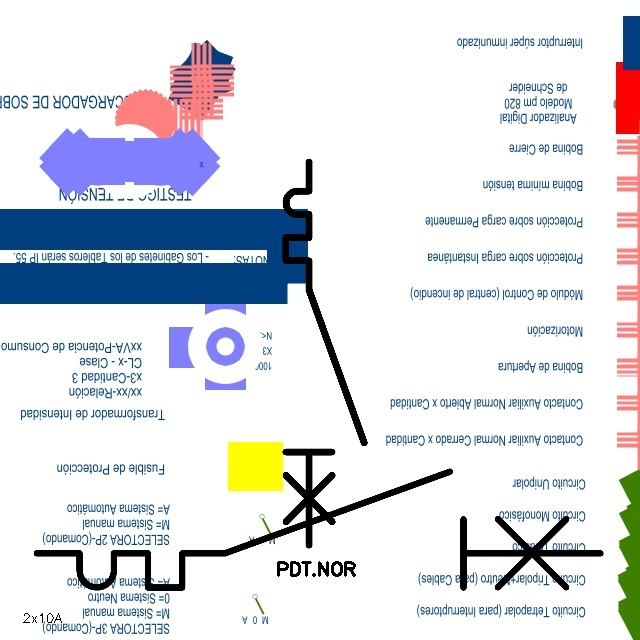interruptor_termomagnetico: (22, 457, 614, 602), (276, 152, 374, 554)
